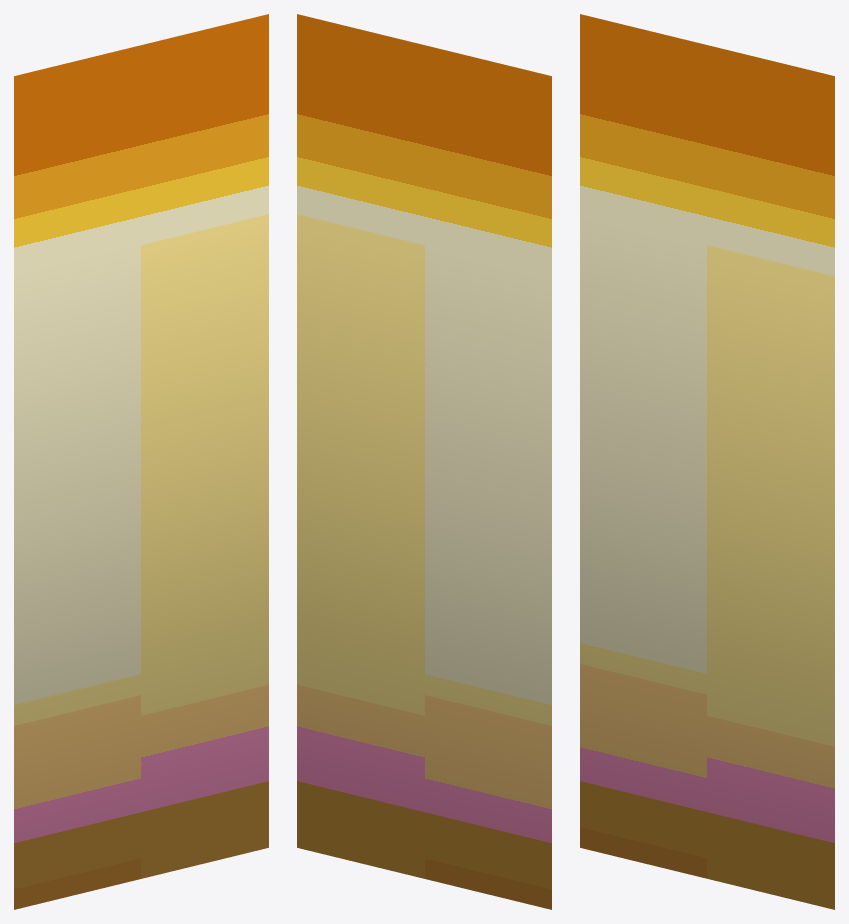
The picture shows the model from 3 angles, left to right: view 1: azimuth 30°, elevation 25°; view 2: azimuth 150°, elevation 25°; view 3: azimuth 330°, elevation 25°; orthographic projection.
Size of the model in its own units: 1 by 3.12 by 0.
2 materials, 2 textured.
